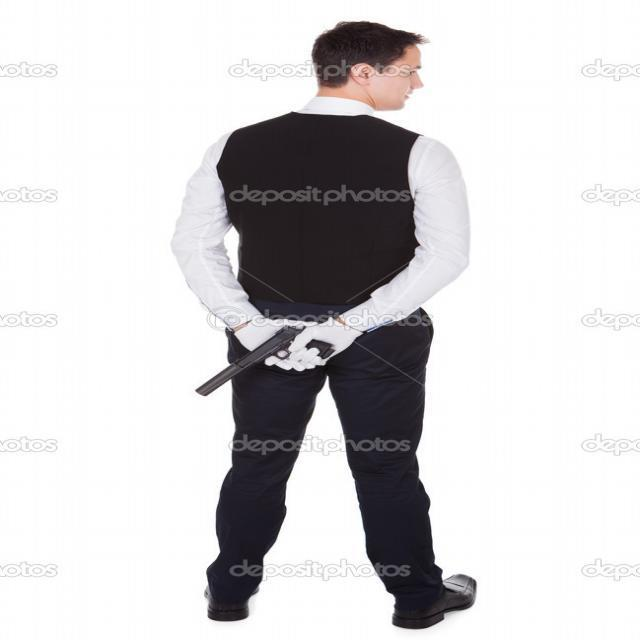gun: (184, 322, 344, 400)
